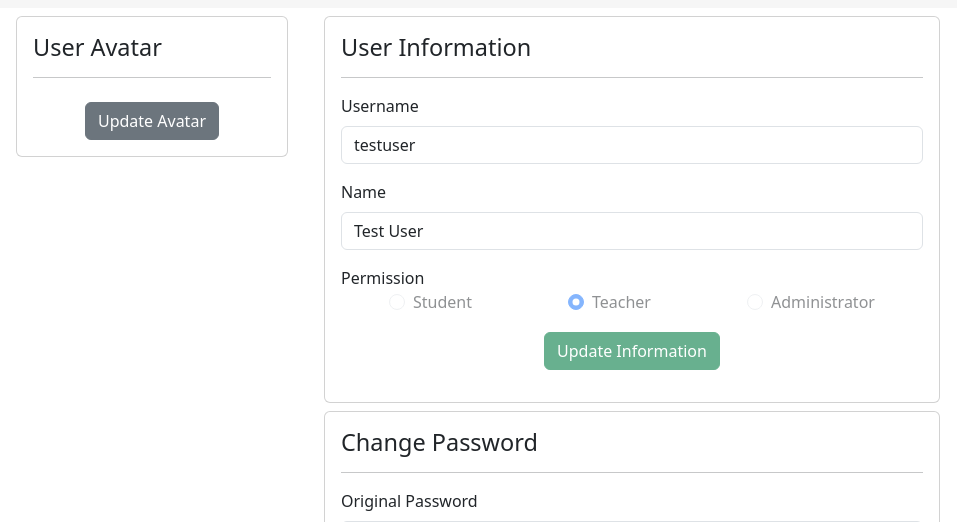
Test case: UserProfile Component › handles user info update error
(page scrolled)
Replace the text in the field labelled "Username" with "newuser" at (632, 145), box [341,126,923,164]
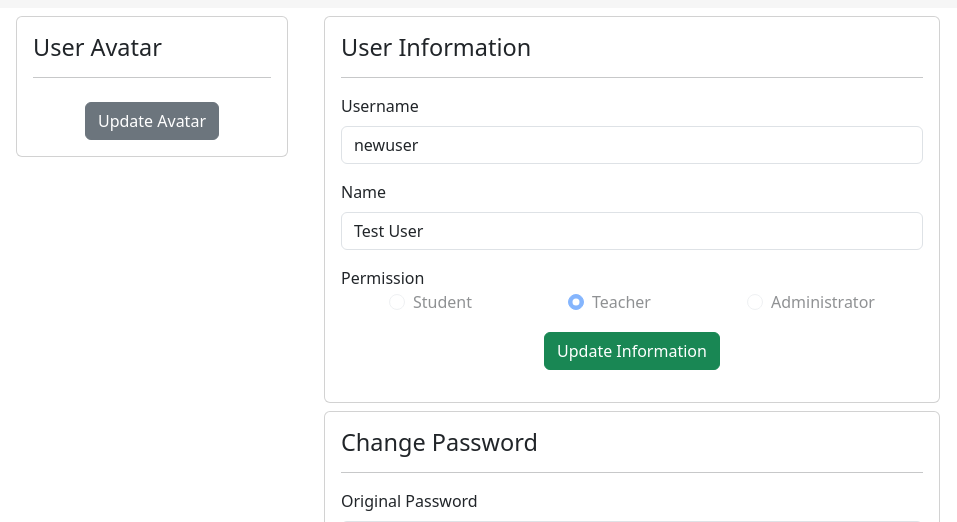
Replace the text in the field labelled "Name" with "New User" at (632, 231), box [341,212,923,250]
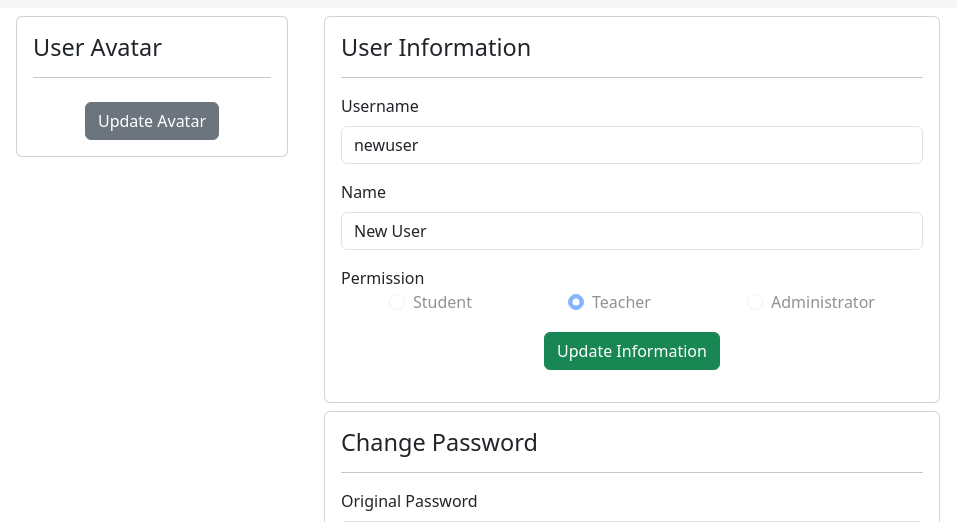
Click the button "Update Information" at (632, 351), box [544,332,720,370]
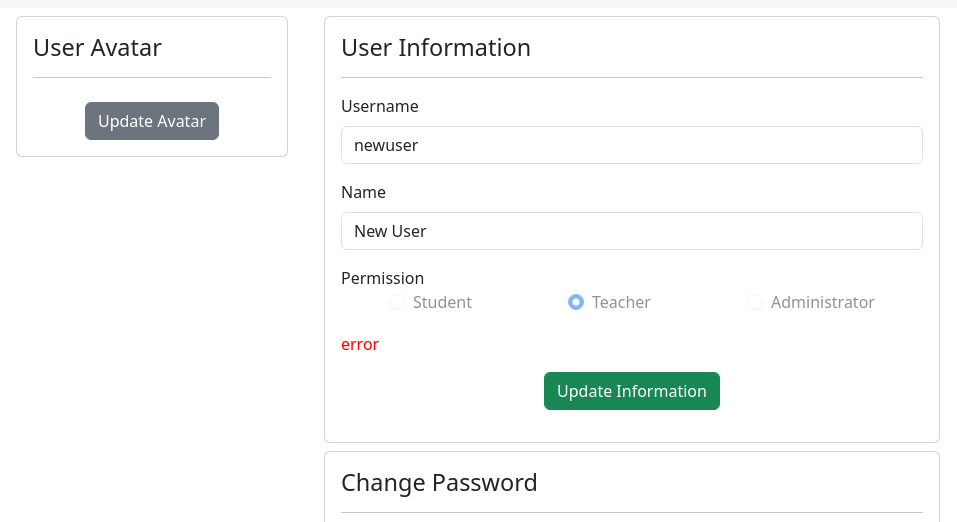
Result: the text "error" is shown at [341,333,379,355]
